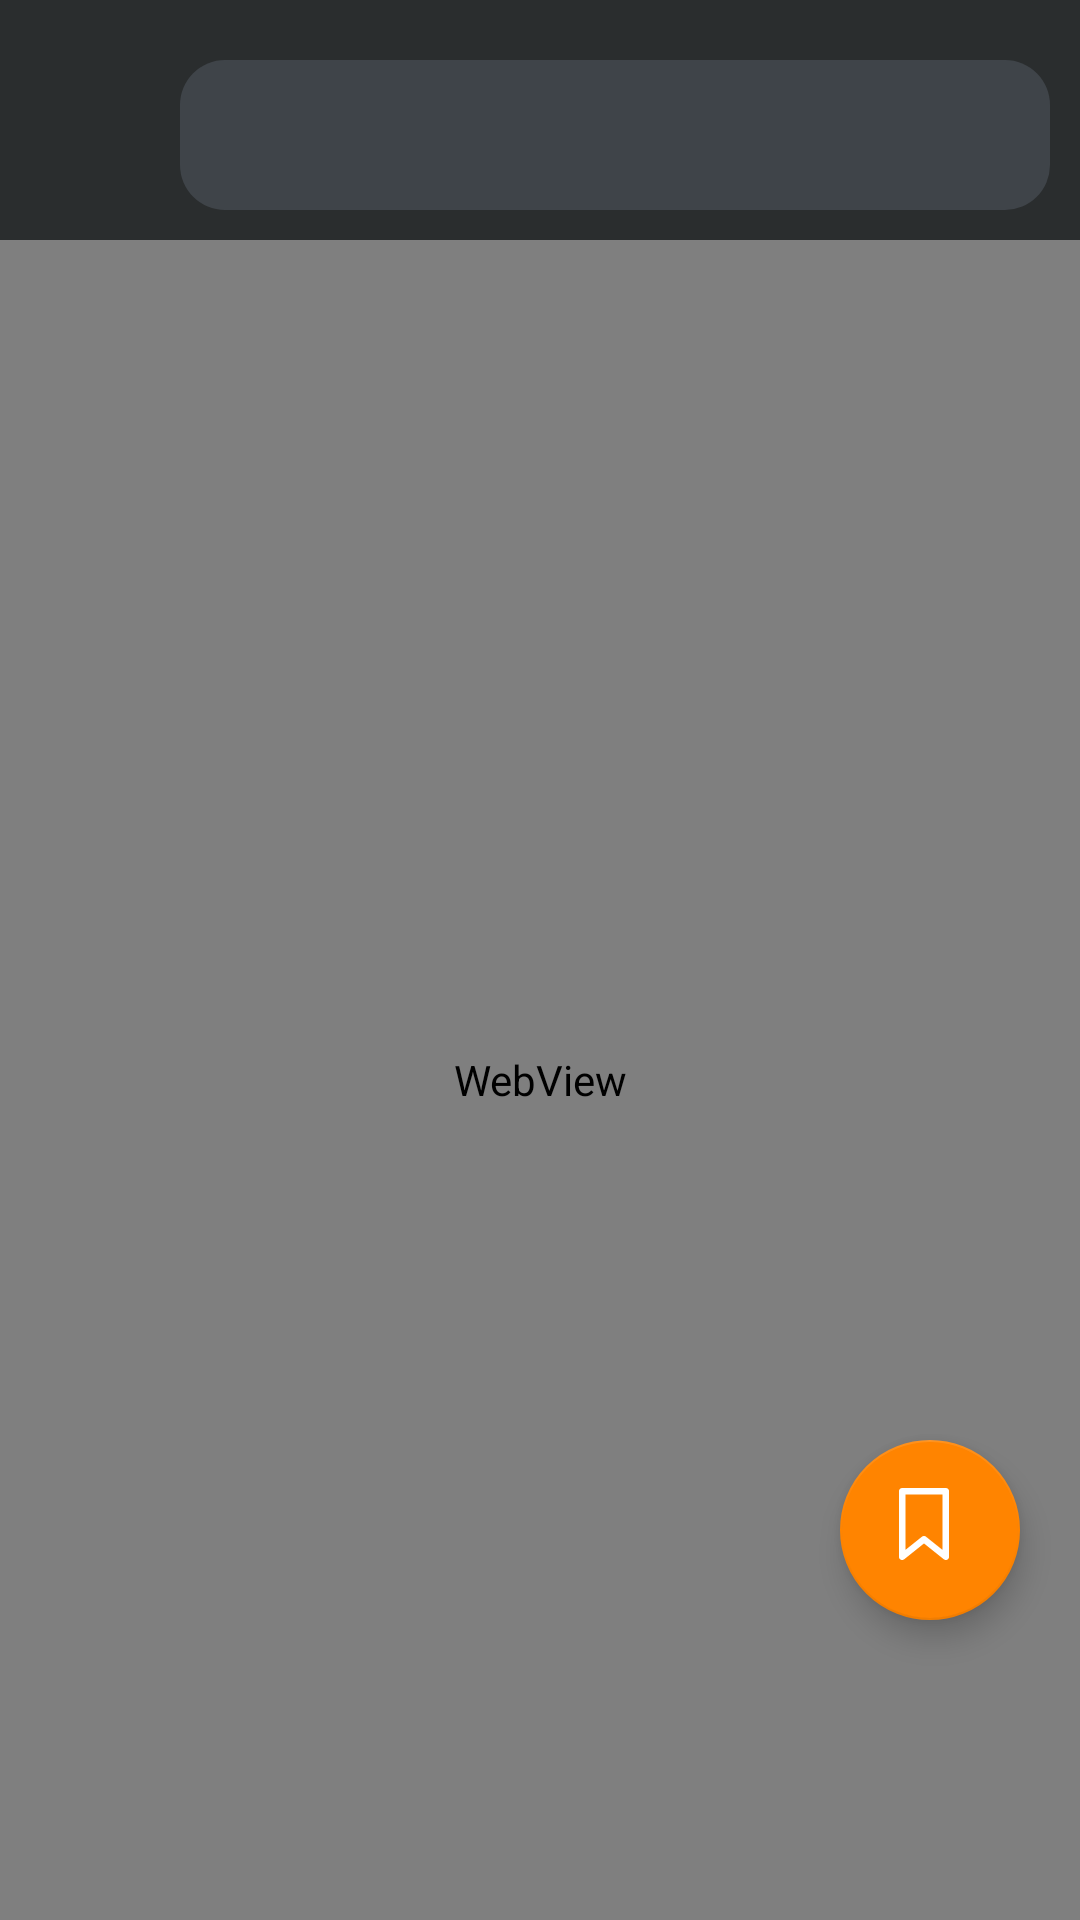

Point at icon controls on the screen. Image size 1080w x 1920h, points as point (x, y).
bookmark: point (930, 1530)
